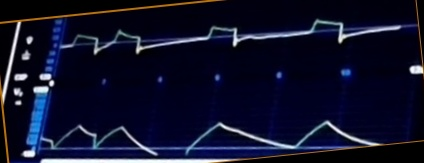Double_Triggering Flow: (65, 17, 399, 67)
Double_Triggering Volume: (43, 114, 382, 158)
